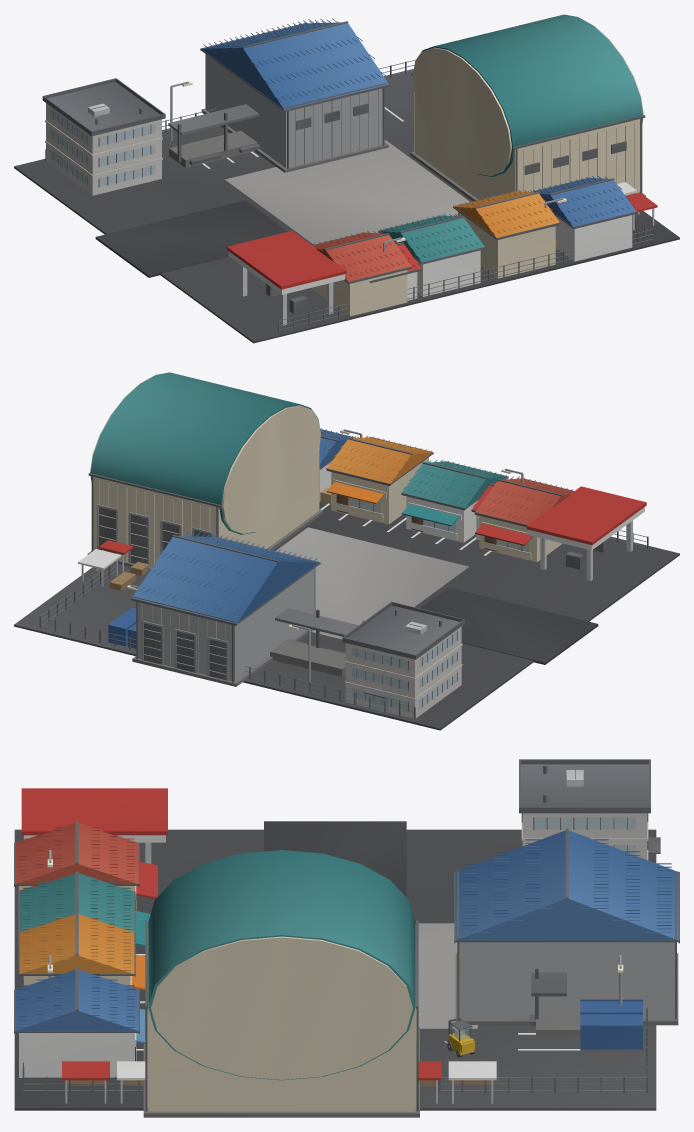
Rendered from Market_P3.fbx.
3 views of the same model, one above another, from view 1: azimuth 30°, elevation 25°; view 2: azimuth 150°, elevation 25°; view 3: azimuth 270°, elevation 25° (orthographic). The views are drawn at different scales.
Visible parts, largest first — view 1: Market.Pad, Market.WH1, Market.WH2, Market.Office, Market.Shop2, Market.Shop3, Market.Fuel, Market.Shop0, Market.Shop1, Market.Dock, Market.Fence, Market.FuelShop (+1 smaller); view 2: Market.Pad, Market.WH1, Market.WH2, Market.Office, Market.Shop2, Market.Fuel, Market.Shop1, Market.Shop0, Market.Dock, Market.Fence, Market.Stalls, Market.Goods (+1 smaller); view 3: Market.WH1, Market.Pad, Market.WH2, Market.Shop3, Market.Office, Market.Shop0, Market.Fuel, Market.Shop2, Market.Shop1, Market.Stalls, Market.Goods, Market.Dock (+2 smaller).
Part boxes in pixels (left/top/right/bottom): Market.Pad: left=14, top=69, right=679, bottom=343; Market.WH1: left=410, top=14, right=645, bottom=201; Market.WH2: left=200, top=18, right=389, bottom=172; Market.Office: left=42, top=78, right=165, bottom=195; Market.Shop2: left=453, top=189, right=560, bottom=278; Market.Shop3: left=528, top=176, right=637, bottom=261; Market.Fuel: left=227, top=230, right=346, bottom=325; Market.Shop0: left=311, top=230, right=412, bottom=316; Market.Shop1: left=378, top=213, right=485, bottom=296; Market.Dock: left=168, top=81, right=388, bottom=167; Market.Fence: left=45, top=59, right=654, bottom=332; Market.FuelShop: left=369, top=242, right=422, bottom=300; Market.Pad: left=14, top=501, right=679, bottom=730; Market.WH1: left=87, top=372, right=323, bottom=571; Market.WH2: left=131, top=532, right=320, bottom=686; Market.Office: left=342, top=601, right=465, bottom=718; Market.Shop2: left=326, top=435, right=433, bottom=524; Market.Fuel: left=526, top=486, right=646, bottom=581; Market.Shop1: left=401, top=459, right=508, bottom=542; Market.Shop0: left=474, top=476, right=573, bottom=562; Market.Dock: left=270, top=608, right=364, bottom=676; Market.Fence: left=39, top=530, right=648, bottom=719; Market.Stalls: left=78, top=540, right=148, bottom=590; Market.Goods: left=108, top=487, right=331, bottom=648; Market.WH1: left=143, top=850, right=419, bottom=1117; Market.Pad: left=14, top=821, right=656, bottom=1110; Market.WH2: left=454, top=828, right=679, bottom=1025; Market.Shop3: left=14, top=968, right=145, bottom=1077; Market.Office: left=519, top=759, right=660, bottom=860; Market.Shop0: left=14, top=821, right=157, bottom=910; Market.Fuel: left=21, top=788, right=167, bottom=863; Market.Shop2: left=18, top=912, right=145, bottom=990; Market.Shop1: left=18, top=871, right=150, bottom=946; Market.Stalls: left=62, top=1061, right=496, bottom=1103; Market.Goods: left=580, top=999, right=642, bottom=1049; Market.Dock: left=529, top=967, right=580, bottom=1040.
Bounding box in the file's own units: 7857 × 2281 × 7474.
